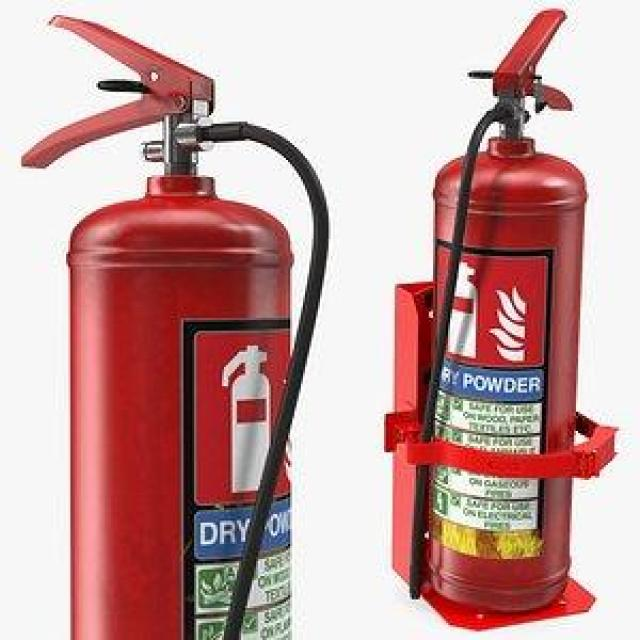fire_extinguisher: (15, 8, 337, 638), (398, 2, 590, 617)
